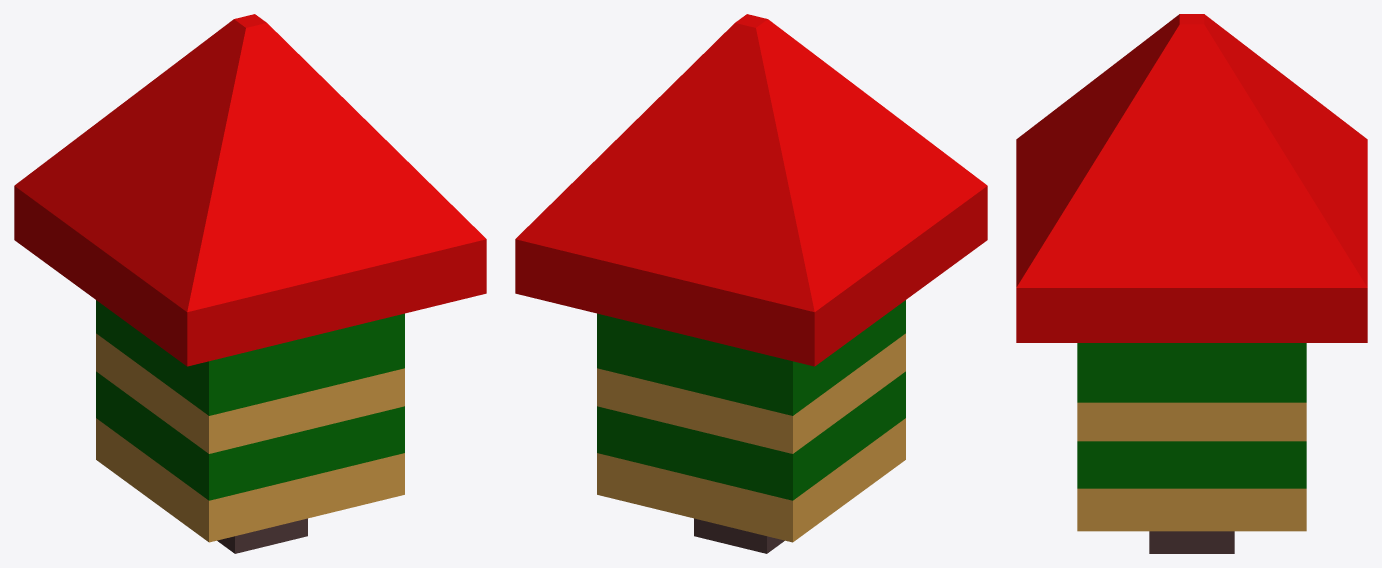
File: 031 Xmas_Crackers.fbx
3 views of the same model, side by side, from view 1: azimuth 30°, elevation 25°; view 2: azimuth 150°, elevation 25°; view 3: azimuth 270°, elevation 25° (orthographic).
Parts seen in each view (by area): view 1: Lowpoly_Christmas_Pack_031:pCube1; view 2: Lowpoly_Christmas_Pack_031:pCube1; view 3: Lowpoly_Christmas_Pack_031:pCube1.
Boxes of the visible parts, bbox=[...] form: Lowpoly_Christmas_Pack_031:pCube1: bbox=[14, 14, 486, 553]; Lowpoly_Christmas_Pack_031:pCube1: bbox=[515, 14, 987, 553]; Lowpoly_Christmas_Pack_031:pCube1: bbox=[1016, 14, 1367, 553].
Size of the model in its own units: 1.3 by 2.11 by 1.3.
